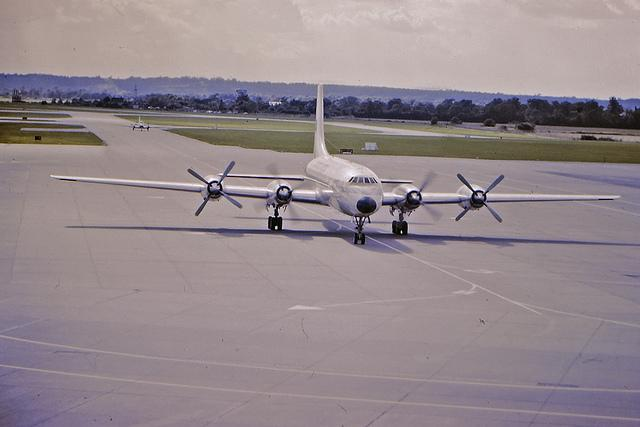airplane: (49, 82, 623, 246), (115, 113, 164, 133)
